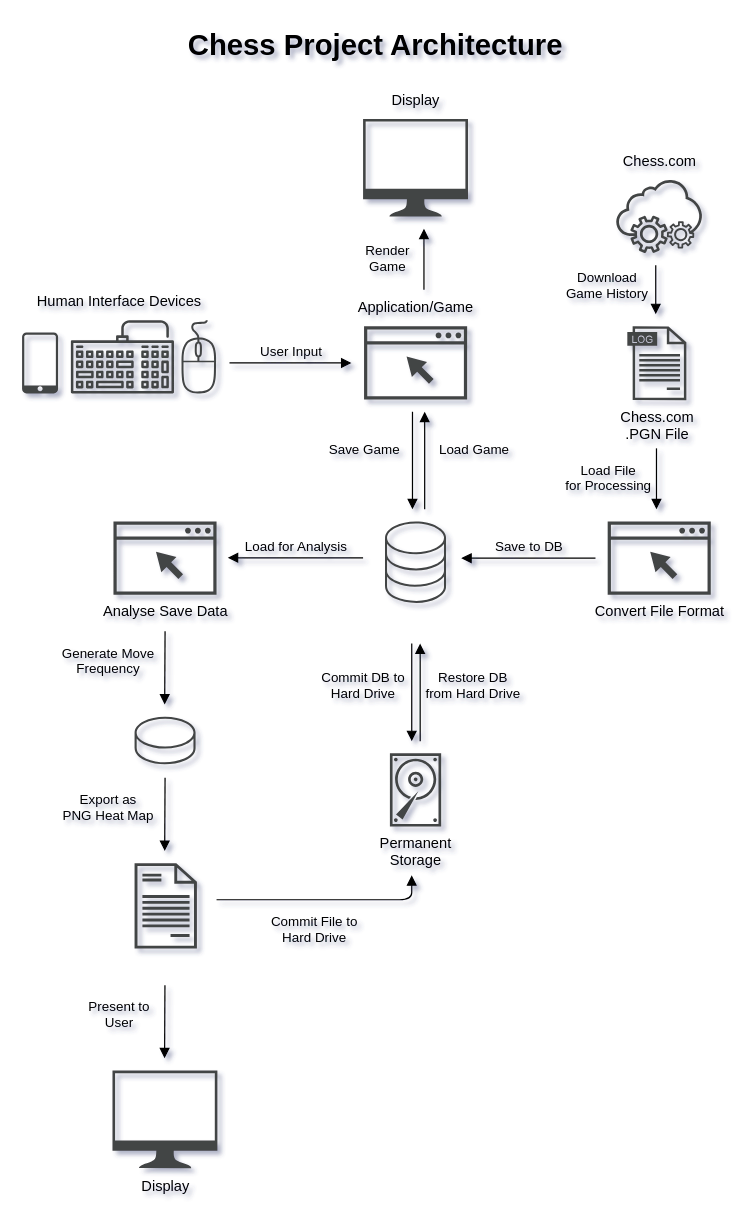
The diagram is 752 pixels wide and 1232 high, and some of its shapes have lost their labels. Each missing label, with the box of its shape:
PNG Heat Map: (134, 863, 196, 948)
Save File Database: (384, 521, 445, 602)
